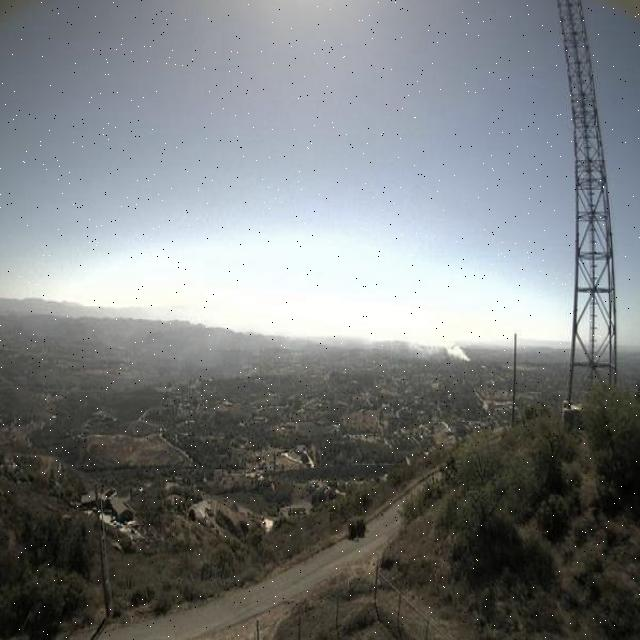smoke: (428, 328, 472, 362)
